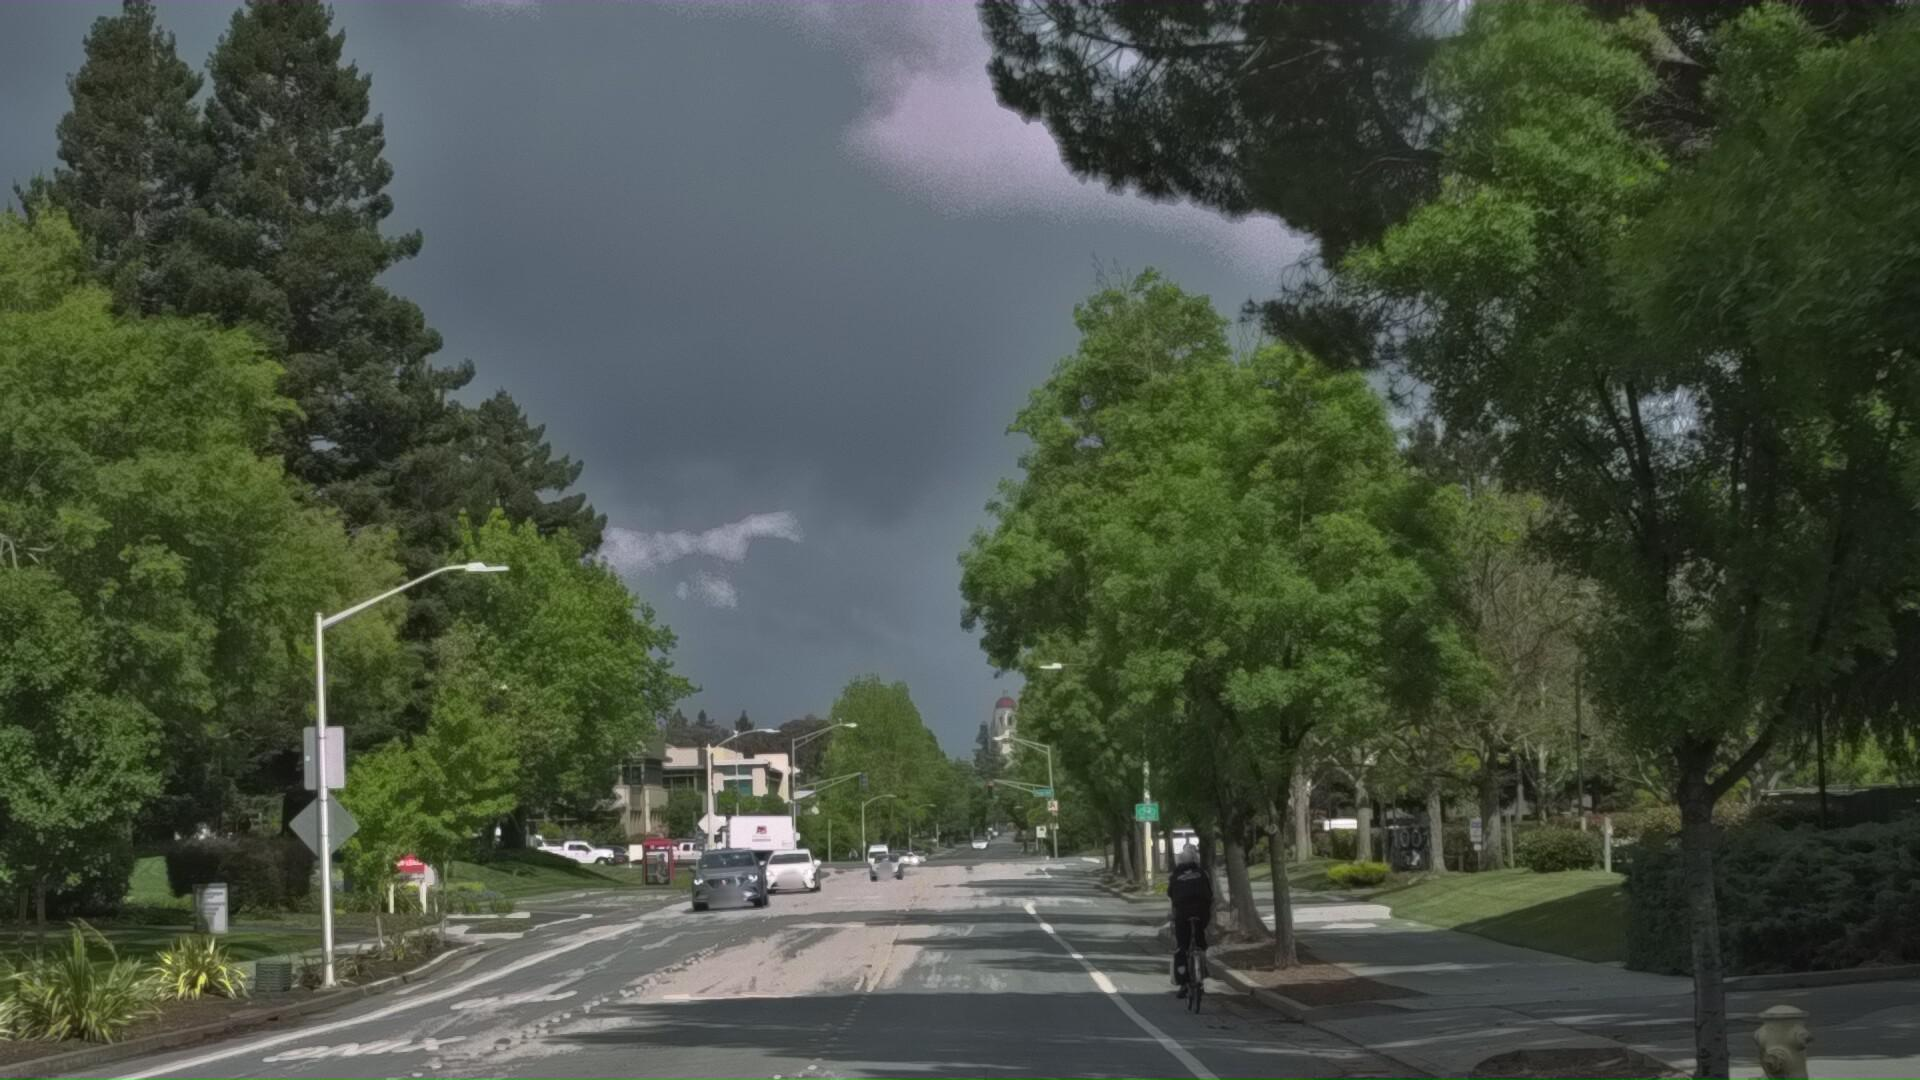bicycle: (1134, 920, 1240, 1080)
